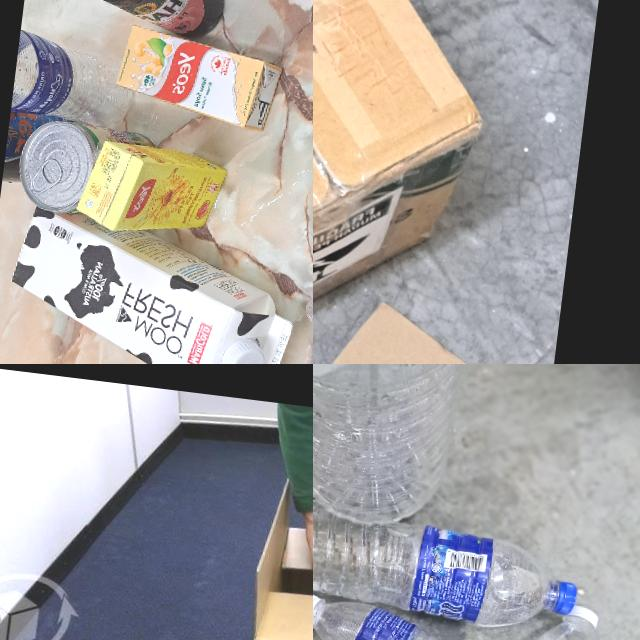aba de lata: (26, 154, 67, 202)
caixinha: (0, 208, 296, 364), (110, 26, 286, 128), (76, 135, 228, 246)
garrafa de vidro: (22, 0, 225, 39), (2, 105, 54, 184)
garrafa plástica: (313, 364, 477, 541), (313, 503, 554, 623), (10, 29, 111, 122), (313, 600, 499, 640)
lata: (13, 110, 143, 224)
papelão: (313, 0, 506, 364), (236, 463, 313, 640)
tampa plástica: (545, 574, 578, 617), (218, 336, 266, 364), (566, 596, 601, 627), (313, 589, 321, 631)
